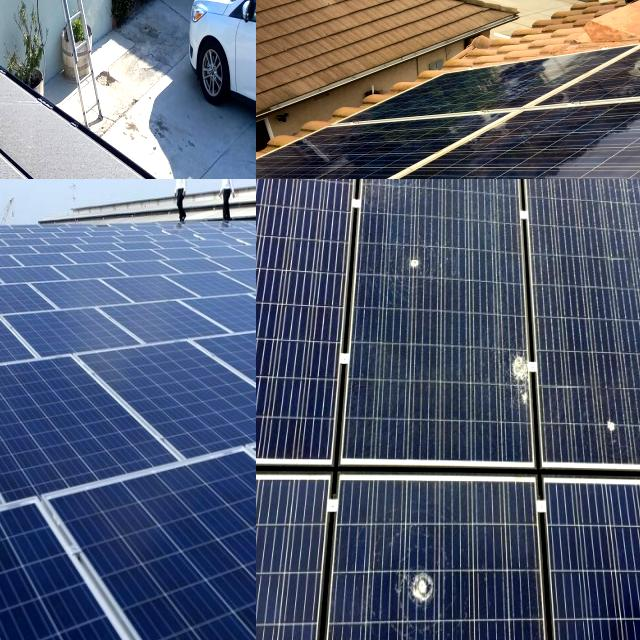crack: (166, 313, 256, 456), (95, 497, 213, 592), (2, 294, 142, 374), (97, 285, 237, 363), (0, 387, 97, 482), (68, 408, 156, 496), (23, 266, 144, 330), (0, 565, 93, 640), (149, 361, 222, 444), (173, 282, 256, 351), (0, 581, 96, 640), (530, 129, 640, 179), (0, 316, 75, 388), (192, 386, 256, 469), (206, 498, 256, 589), (0, 266, 61, 335), (0, 284, 65, 345)
dust: (0, 132, 112, 179), (0, 65, 93, 115), (0, 18, 76, 58), (0, 0, 65, 22)
hotspot: (392, 526, 462, 628), (496, 330, 546, 443), (587, 382, 640, 445), (394, 230, 438, 289), (451, 179, 506, 220), (368, 179, 408, 208), (588, 179, 628, 208), (611, 179, 640, 202)
